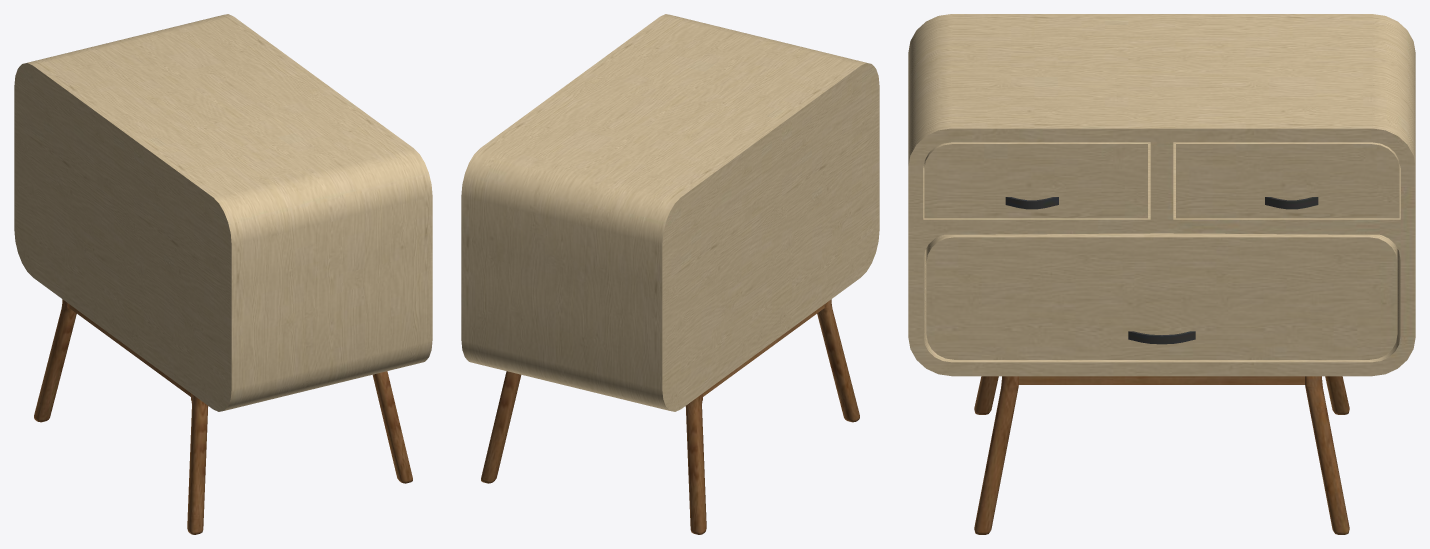
File: nightstand.fbx
3 views of the same model, side by side, from view 1: azimuth 30°, elevation 25°; view 2: azimuth 150°, elevation 25°; view 3: azimuth 270°, elevation 25° (orthographic). The views are drawn at different scales.
Visible parts, largest first — view 1: nightstand; view 2: nightstand; view 3: nightstand.
Boxes of the visible parts, bbox=[...] form: nightstand: bbox=[14, 14, 432, 534]; nightstand: bbox=[461, 14, 879, 534]; nightstand: bbox=[908, 14, 1415, 534].
Size of the model in its own units: 60.35 by 89.33 by 102.
1 material, 1 textured.
